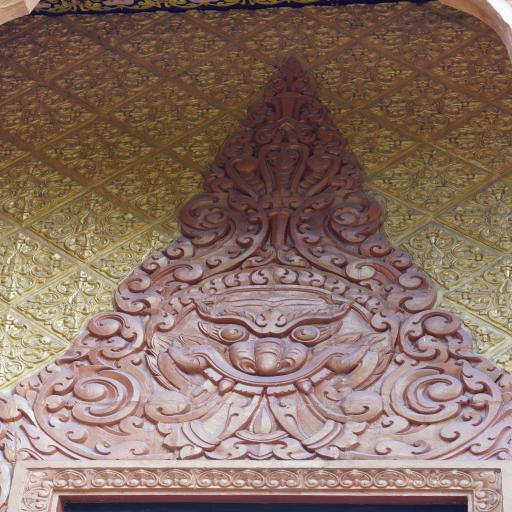la: (66, 365, 142, 425), (70, 313, 144, 367), (180, 194, 236, 244), (20, 368, 76, 416), (384, 264, 438, 308), (334, 192, 378, 244), (0, 423, 56, 463), (112, 275, 167, 315), (41, 134, 87, 166), (445, 281, 494, 311), (18, 330, 62, 363), (30, 248, 76, 279), (38, 169, 84, 200), (18, 290, 63, 320), (439, 202, 484, 232), (369, 166, 415, 195), (93, 249, 138, 278), (51, 100, 96, 129), (450, 241, 495, 270), (186, 28, 228, 59), (406, 225, 460, 249), (467, 319, 504, 354), (140, 119, 191, 144), (55, 269, 104, 295), (63, 234, 112, 260), (371, 128, 416, 156), (0, 194, 50, 219), (18, 84, 66, 110), (396, 74, 448, 98), (103, 208, 146, 237), (30, 212, 76, 239), (117, 63, 161, 91), (406, 187, 457, 211), (14, 122, 61, 148), (179, 95, 218, 126), (0, 230, 43, 258), (113, 98, 153, 128), (76, 117, 122, 143), (208, 81, 254, 107), (331, 12, 383, 35), (401, 113, 453, 136), (386, 201, 424, 232), (72, 157, 120, 181), (464, 74, 512, 98), (68, 190, 114, 215), (112, 134, 153, 162), (173, 132, 214, 160), (138, 150, 182, 176), (443, 162, 487, 188), (7, 156, 54, 180), (333, 114, 384, 136), (402, 146, 453, 168), (53, 67, 93, 95), (439, 126, 479, 154), (50, 314, 93, 340), (309, 60, 346, 90), (373, 57, 414, 84), (135, 194, 183, 217), (91, 21, 139, 44), (309, 26, 351, 52), (440, 91, 482, 117), (143, 307, 175, 341), (149, 50, 196, 73), (104, 171, 144, 198), (335, 82, 384, 104), (146, 81, 190, 105), (336, 42, 384, 64), (247, 265, 297, 286), (1, 66, 36, 96), (370, 94, 410, 120), (472, 145, 512, 171), (0, 274, 37, 302), (244, 26, 281, 54), (432, 53, 469, 81), (26, 54, 71, 77), (155, 15, 200, 38), (435, 21, 478, 45), (0, 36, 38, 63), (62, 32, 100, 59), (480, 302, 512, 334), (310, 124, 344, 154), (86, 50, 130, 73), (470, 106, 512, 130), (32, 19, 75, 42), (206, 114, 247, 138), (124, 31, 159, 59), (85, 88, 129, 110), (128, 228, 174, 249), (215, 17, 261, 38), (202, 164, 236, 192), (223, 128, 256, 156), (25, 469, 69, 490), (276, 12, 320, 33), (397, 6, 441, 27), (462, 38, 506, 59), (370, 23, 404, 50), (479, 226, 512, 252), (372, 304, 402, 332), (424, 470, 470, 488), (398, 43, 444, 61), (0, 310, 29, 338), (21, 486, 52, 512), (304, 468, 342, 489), (170, 284, 206, 306), (0, 358, 26, 388), (172, 168, 202, 194), (475, 183, 512, 204), (197, 468, 232, 490), (284, 119, 316, 143), (358, 233, 390, 257), (484, 257, 512, 284), (276, 46, 320, 63), (0, 137, 23, 169), (0, 103, 25, 132), (264, 470, 302, 489), (337, 469, 375, 488), (0, 392, 24, 422), (88, 468, 128, 486), (229, 468, 263, 489), (372, 468, 406, 489), (337, 156, 364, 182), (157, 468, 192, 488), (277, 57, 307, 80), (52, 468, 86, 488), (9, 15, 49, 32), (302, 4, 342, 21), (168, 236, 196, 260), (474, 488, 502, 512), (123, 469, 158, 488), (469, 470, 499, 492), (371, 2, 415, 17), (300, 98, 326, 123), (294, 267, 324, 288), (352, 151, 382, 172), (249, 102, 275, 126), (126, 11, 170, 25), (64, 14, 102, 30), (385, 246, 409, 271), (430, 267, 460, 287), (94, 287, 116, 314), (184, 10, 221, 26), (140, 251, 167, 271), (224, 269, 252, 288), (251, 6, 289, 20), (322, 272, 345, 295), (290, 76, 316, 96), (326, 174, 354, 192), (0, 173, 14, 206), (257, 123, 280, 143), (263, 78, 287, 96), (341, 284, 365, 302), (402, 469, 426, 487), (363, 295, 386, 313), (203, 276, 227, 293)
ran: (257, 142, 307, 194), (225, 154, 266, 200), (298, 152, 338, 195)
than: (0, 55, 512, 475), (389, 363, 469, 423), (398, 305, 473, 360), (460, 361, 506, 398), (88, 66, 126, 94), (62, 288, 94, 318), (402, 22, 440, 47), (342, 59, 376, 86), (70, 210, 106, 235), (1, 250, 33, 278), (142, 170, 177, 195), (279, 28, 311, 55), (421, 242, 449, 272), (12, 174, 44, 200), (25, 102, 54, 130), (152, 98, 183, 124), (158, 31, 190, 56), (83, 135, 113, 161), (218, 62, 246, 88), (486, 200, 512, 228), (471, 52, 501, 76), (410, 92, 440, 116), (479, 125, 510, 148), (415, 164, 444, 188), (345, 128, 371, 154), (34, 35, 62, 59), (0, 331, 19, 362), (495, 278, 512, 308)
